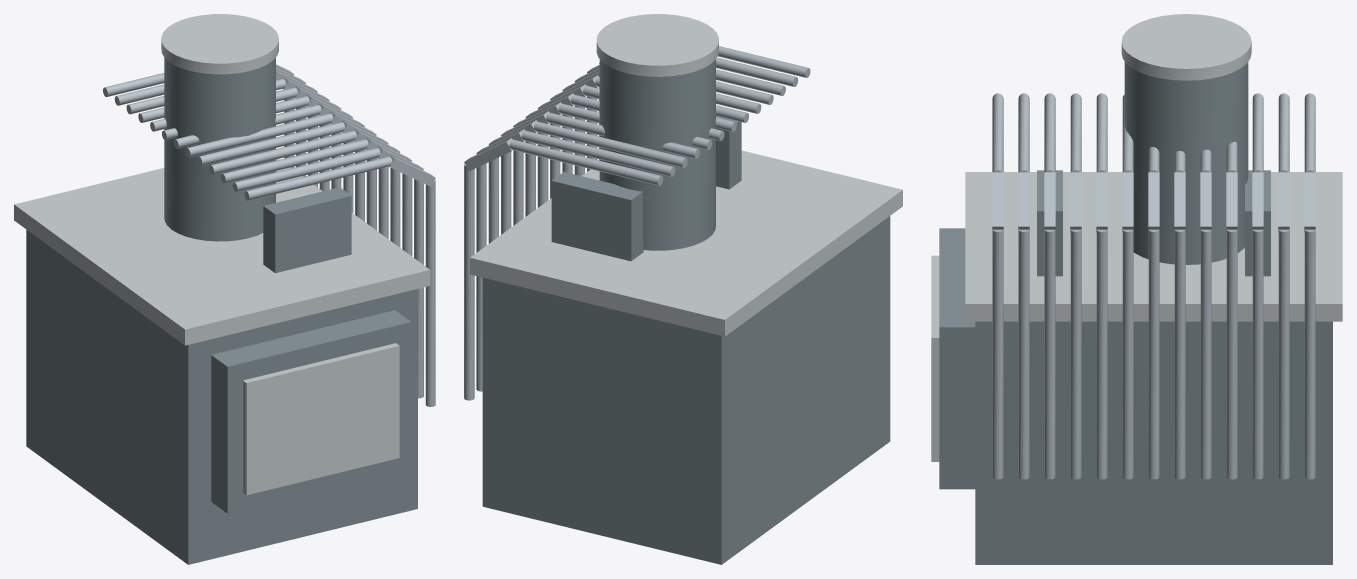
File: preparation_fin_unit.dae
3 renders of one model, left to right at view 1: azimuth 30°, elevation 25°; view 2: azimuth 150°, elevation 25°; view 3: azimuth 270°, elevation 25°, orthographic. The views are drawn at different scales.
Parts seen in each view (by area): view 1: preparation_fin_unit; view 2: preparation_fin_unit; view 3: preparation_fin_unit.
Boxes of the visible parts, left/top/right/bottom form: preparation_fin_unit: left=14, top=14, right=435, bottom=564; preparation_fin_unit: left=464, top=14, right=902, bottom=564; preparation_fin_unit: left=931, top=14, right=1342, bottom=564.
Bounding box in the file's own units: 1.04 × 1.26 × 1.59.
